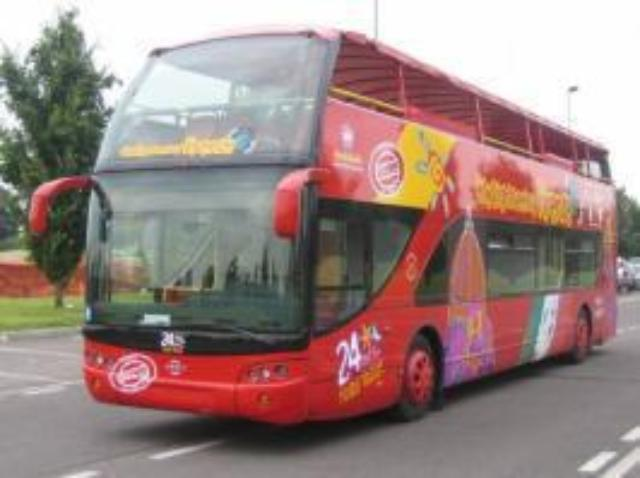bus: (22, 22, 621, 423)
